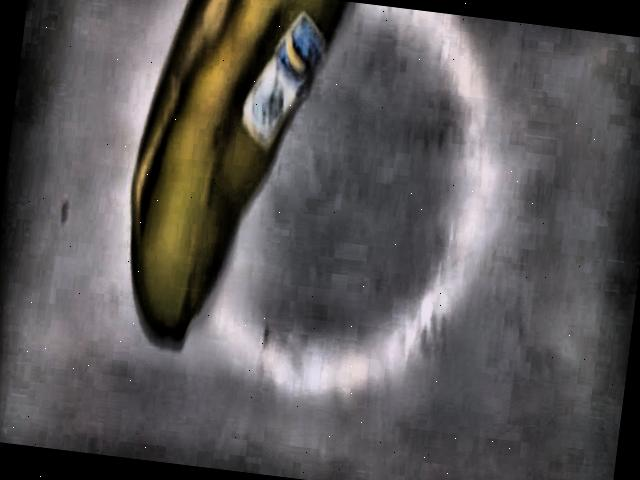Almennt: (130, 0, 346, 344)
